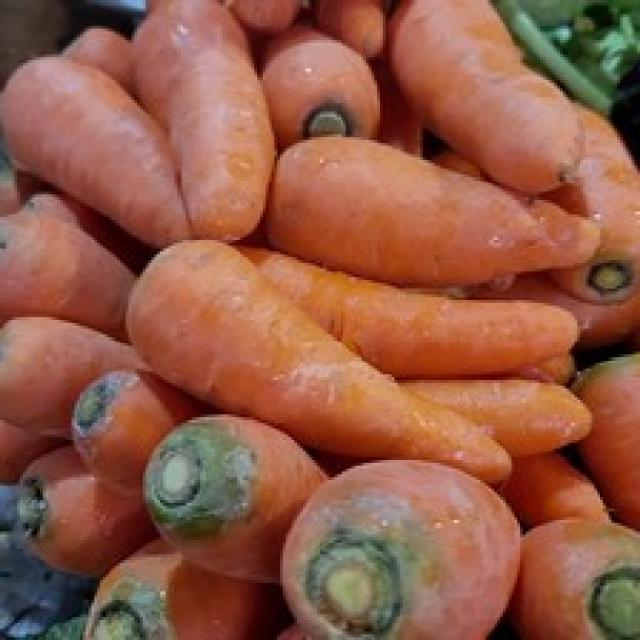Fresh_Carrot: (0, 303, 289, 640), (120, 238, 518, 481), (12, 464, 546, 640), (256, 116, 606, 274), (0, 37, 200, 238), (133, 2, 280, 232)
